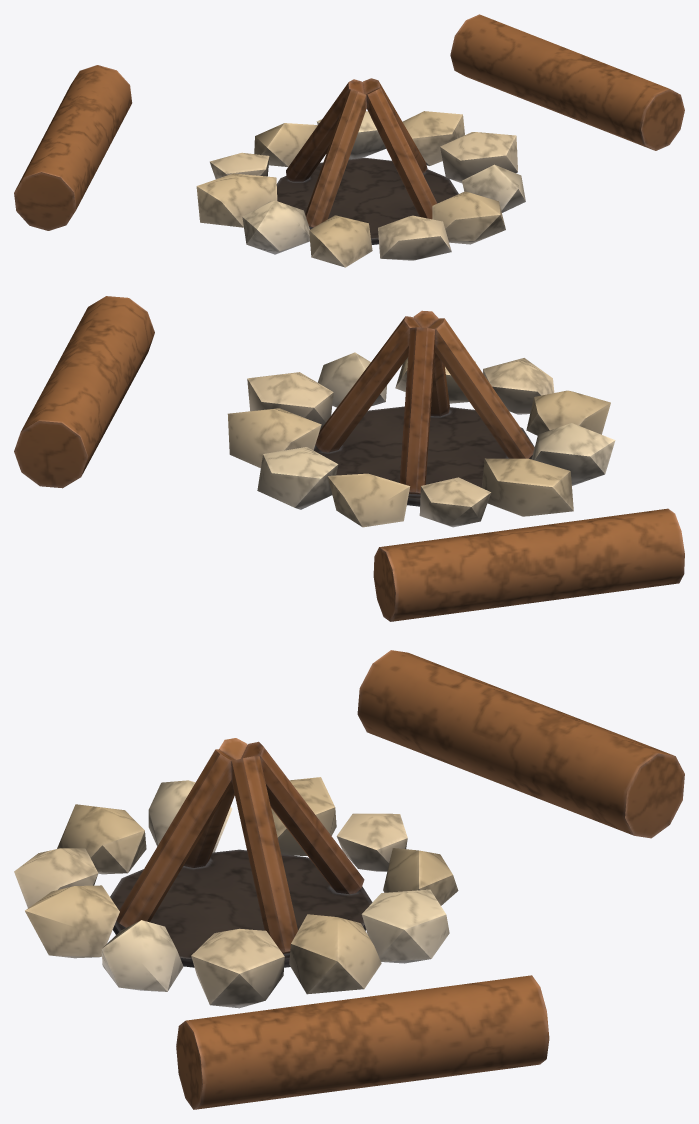
The model's file is Stage_Lake_Campfire.glb.
The picture shows the model from 3 angles, top to bottom: view 1: azimuth 30°, elevation 25°; view 2: azimuth 150°, elevation 25°; view 3: azimuth 270°, elevation 25°; orthographic projection. The views are drawn at different scales.
Parts seen in each view (by area): view 1: Stage_Lake_Campfire; view 2: Stage_Lake_Campfire; view 3: Stage_Lake_Campfire.
Part boxes in pixels (x1,y1,x2,y2): Stage_Lake_Campfire: [14, 14, 684, 267]; Stage_Lake_Campfire: [14, 296, 684, 621]; Stage_Lake_Campfire: [14, 650, 684, 1109].
Size of the model in its own units: 10.57 by 2.24 by 7.4.
Materials: 1 (1 with a texture image).
